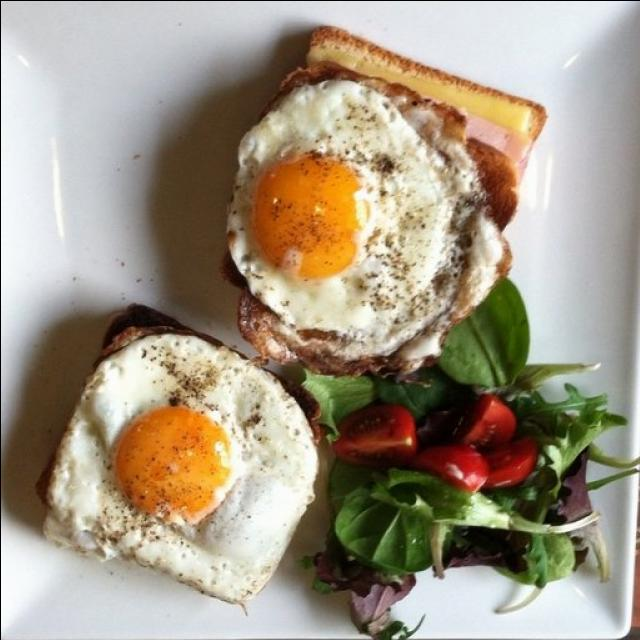telur ceplok: (41, 320, 318, 608), (226, 71, 509, 335)
